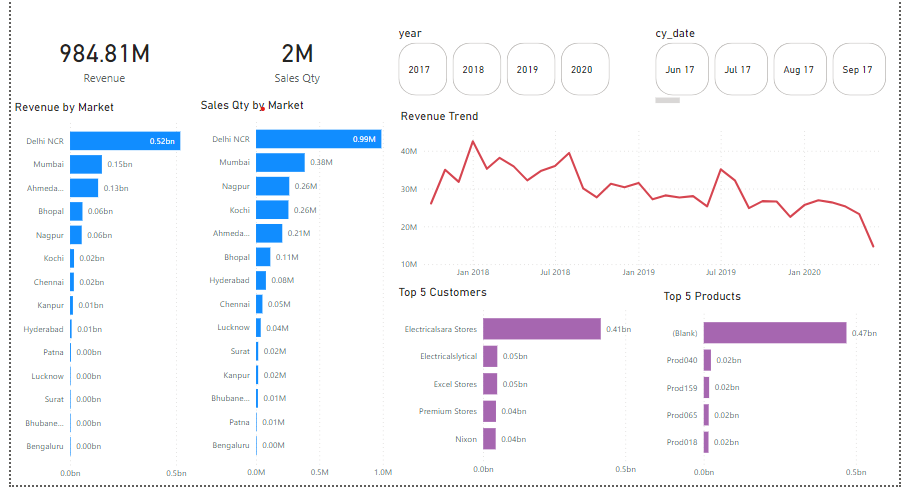

This screenshot's page, from the dashboard's own definition file:
{"tool":"powerbi","page":{"name":"Page 1","canvas":[1280,720],"ordinal":0},"visuals":[{"type":"card","fields":{"Values":["BaseMeasures.Revenue"]},"box":[0,38.9,268.9,131.9],"z":0},{"type":"card","fields":{"Values":["BaseMeasures.Sales Qty"]},"box":[268.9,38.9,285.8,131.9],"z":1000},{"type":"barChart","title":"Revenue by Market","fields":{"Y":["BaseMeasures.Revenue"],"Category":["sales markets.markets_name"]},"box":[0,165.2,288.4,555.1],"z":2000},{"type":"barChart","title":"Sales Qty by Market","fields":{"Y":["BaseMeasures.Sales Qty"],"Category":["sales markets.markets_name"]},"box":[268.5,163.1,286.6,556.8],"z":3000},{"type":"advancedSlicerVisual","fields":{"Values":["sales date.year"]},"box":[553.5,59.3,316.3,105.4],"z":4000},{"type":"advancedSlicerVisual","fields":{"Values":["sales date.cy_date"]},"box":[922.5,59.3,342.7,118.6],"z":5000},{"type":"barChart","title":"Top 5 Customers ","fields":{"Y":["BaseMeasures.Revenue"],"Category":["sales customers.custmer_name"]},"box":[553.6,431.9,392.8,282.6],"z":6000},{"type":"barChart","title":"Top 5 Products  ","fields":{"Y":["BaseMeasures.Revenue"],"Category":["sales products.product_code"]},"box":[934.1,438.2,345.9,281.7],"z":7000},{"type":"lineChart","title":"Revenue Trend","fields":{"Y":["BaseMeasures.Revenue"],"Category":["sales date.cy_date.Variation.Date Hierarchy.Year","sales date.cy_date.Variation.Date Hierarchy.Quarter","sales date.cy_date.Variation.Date Hierarchy.Month","sales date.cy_date.Variation.Date Hierarchy.Day"]},"box":[555.2,177.9,715,253.7],"z":8000}]}

Visuals, with their boxes in screenshot pixels (x1, y1, x2, y2):
card - BaseMeasures.Revenue: [67, 42, 242, 128]
card - BaseMeasures.Sales Qty: [242, 42, 428, 128]
"Revenue by Market" barChart: [67, 124, 255, 486]
"Sales Qty by Market" barChart: [242, 123, 429, 485]
advancedSlicerVisual - sales date.year: [428, 55, 634, 124]
advancedSlicerVisual - sales date.cy_date: [668, 55, 891, 133]
"Top 5 Customers " barChart: [428, 298, 683, 482]
"Top 5 Products  " barChart: [675, 302, 901, 485]
"Revenue Trend" lineChart: [429, 133, 894, 298]
